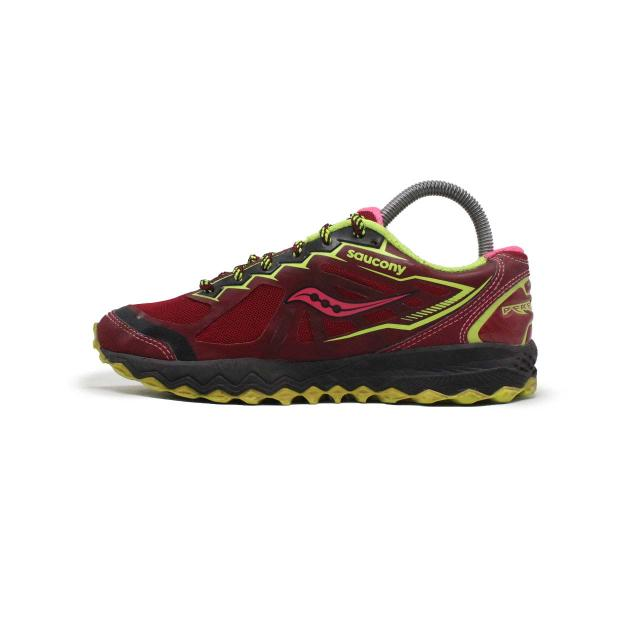heel: (486, 249, 531, 351)
midsole: (96, 333, 539, 403)
uppersole: (90, 210, 501, 363)
